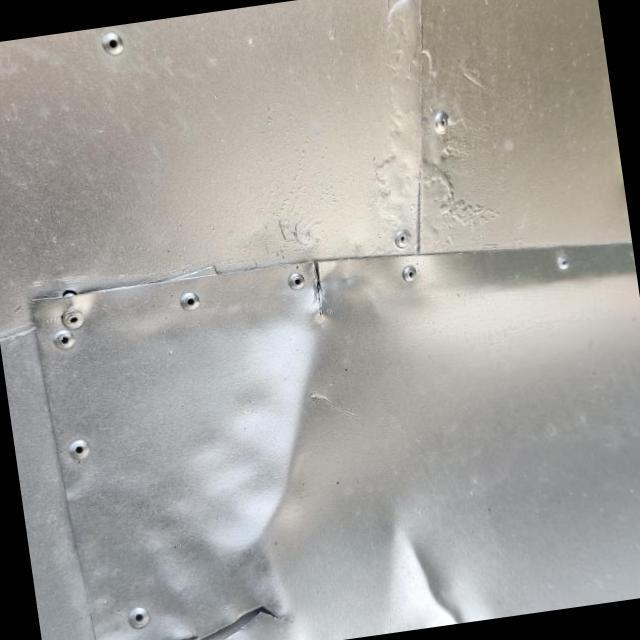Dent: (131, 260, 432, 589), (345, 480, 504, 637)
Rupture: (103, 585, 294, 640), (298, 248, 346, 326)
